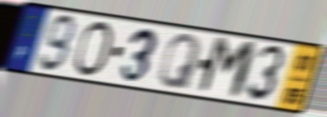3: (118, 25, 163, 86), (244, 44, 289, 105)
9: (38, 12, 79, 75)
M: (195, 34, 261, 102)
O: (70, 19, 115, 79)
Q: (156, 32, 203, 92)
